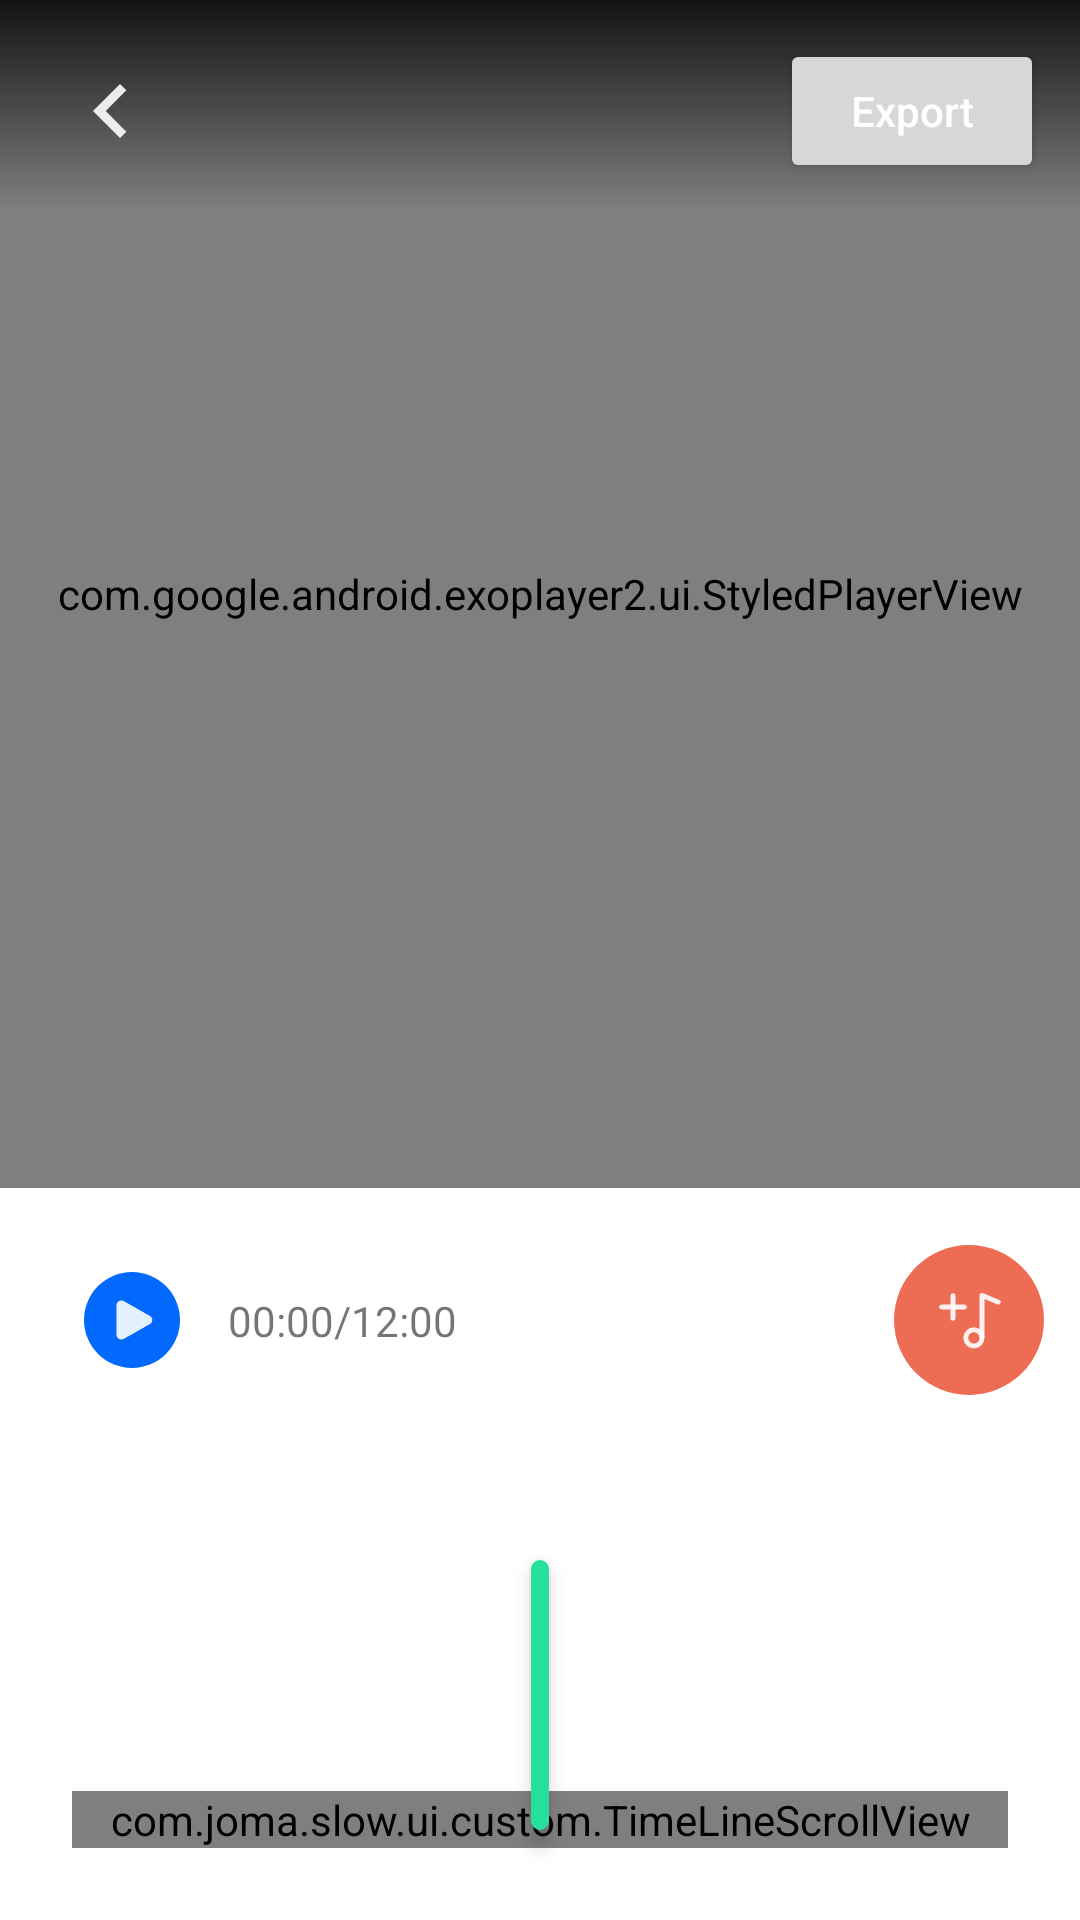

Named icons in this screenshot (1080w x 1920h) and their centers, point (x, y):
add audio: point (969, 1320)
back: point (111, 111)
